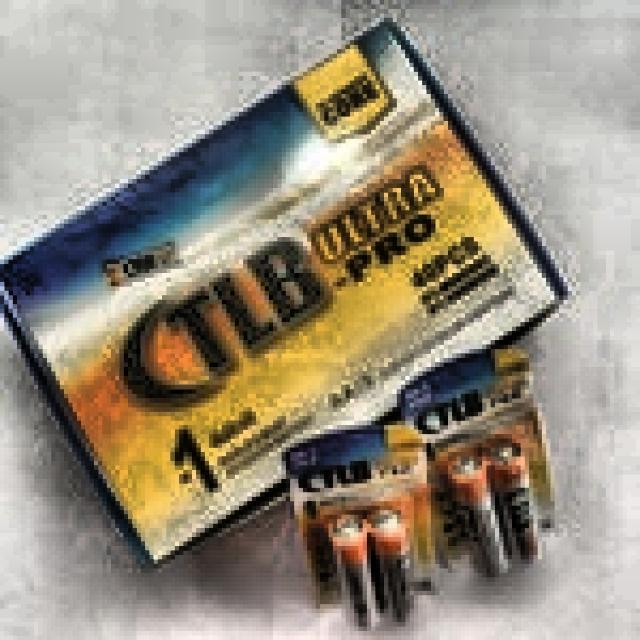Non-Valuable Waste - Batteries: (441, 442, 539, 576), (330, 509, 409, 629)
